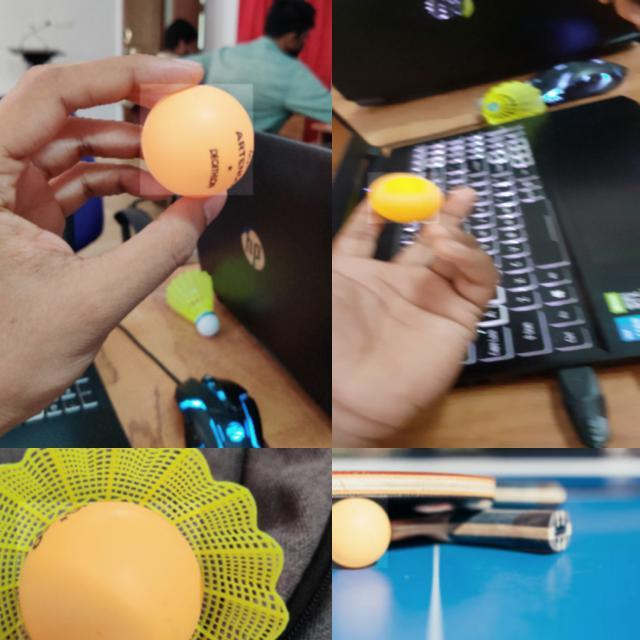ping-pong-ball: (16, 502, 202, 639), (140, 84, 254, 196), (332, 495, 389, 569), (368, 172, 440, 224)
